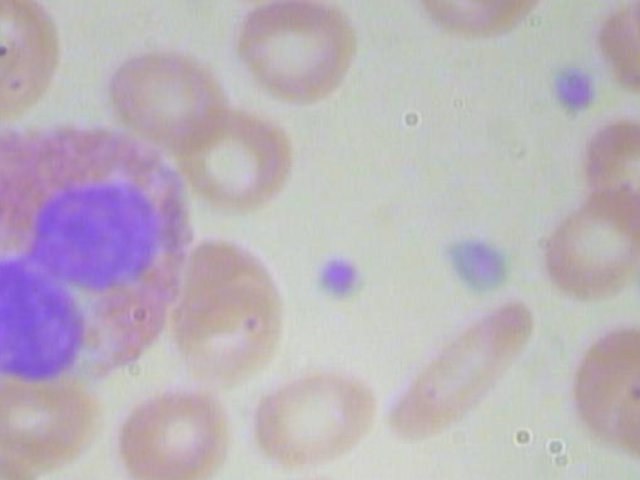Platelets: (434, 230, 522, 306), (307, 248, 374, 307), (541, 55, 602, 117), (635, 262, 640, 315)
RBC: (388, 298, 540, 440), (170, 232, 292, 389), (231, 0, 371, 113), (101, 43, 235, 149), (248, 363, 381, 469), (178, 106, 311, 212), (100, 384, 240, 480), (536, 182, 640, 309), (0, 368, 101, 474), (409, 0, 543, 39), (213, 0, 360, 15)
WBC: (0, 114, 213, 398)
